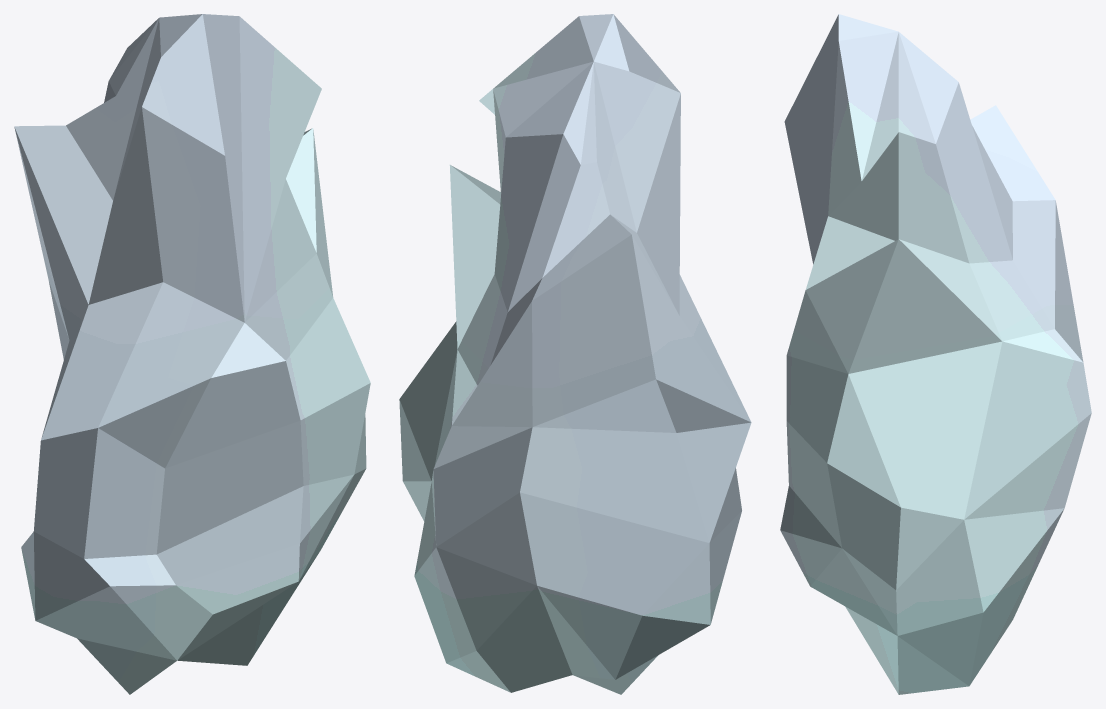
Rendered from SS_IceBerg.fbx.
The picture shows the model from 3 angles, left to right: view 1: azimuth 30°, elevation 25°; view 2: azimuth 150°, elevation 25°; view 3: azimuth 270°, elevation 25°; orthographic projection. The views are drawn at different scales.
Parts seen in each view (by area): view 1: IceBerg; view 2: IceBerg; view 3: IceBerg.
Part boxes in pixels (x1,y1,x2,y2): IceBerg: (14, 14, 370, 694); IceBerg: (399, 14, 751, 694); IceBerg: (780, 14, 1091, 694).
Bounding box in the file's own units: 6.41 × 12.18 × 5.31.
1 material, 1 textured.
